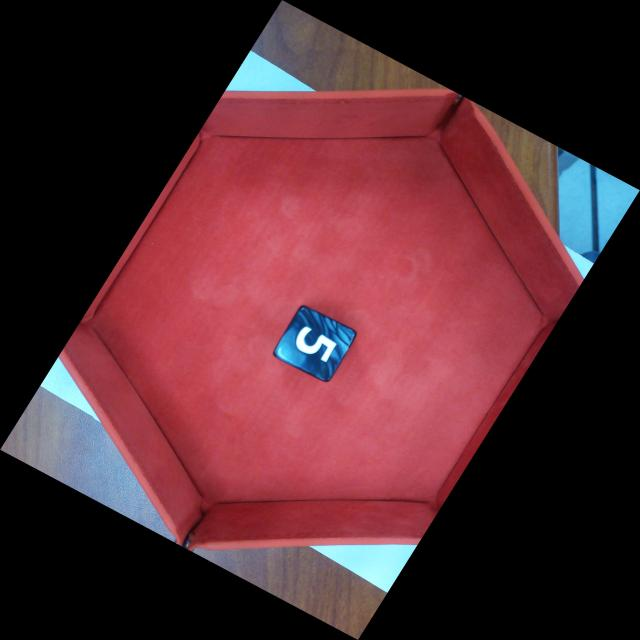dice: (270, 302, 362, 386)
